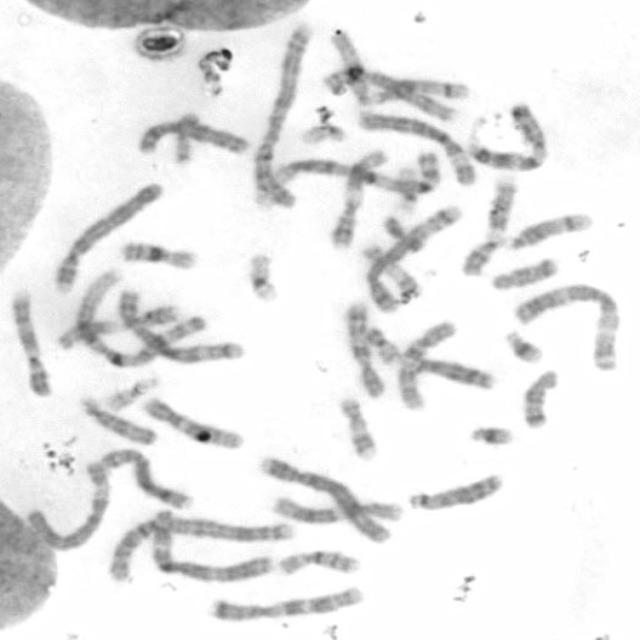A1: (69, 264, 211, 372), (249, 148, 446, 216)
A2: (100, 510, 296, 584), (246, 19, 314, 210)
A3: (509, 278, 622, 372), (148, 506, 277, 584)
B4: (48, 178, 164, 295), (254, 450, 394, 545)
B5: (360, 199, 464, 315), (114, 286, 247, 365)
C10: (392, 316, 458, 412), (341, 296, 386, 399)
C11: (51, 299, 184, 352), (325, 143, 388, 251)
C12: (138, 394, 246, 450), (265, 492, 405, 526)
C6: (352, 106, 478, 188), (23, 458, 113, 552)
C7: (202, 581, 365, 625), (462, 101, 551, 174)
C8: (319, 64, 459, 126), (86, 444, 196, 512)
C9: (458, 169, 520, 280), (6, 285, 53, 397)
D13: (396, 351, 498, 394), (402, 469, 503, 512)
D14: (354, 74, 471, 110), (502, 208, 595, 251)
D15: (324, 27, 378, 114), (75, 391, 159, 446)
E16: (115, 236, 200, 272), (274, 546, 361, 577)
E17: (358, 240, 422, 302), (334, 393, 380, 462)
E18: (487, 254, 560, 292), (518, 366, 560, 430)
F19: (242, 249, 282, 304), (390, 162, 422, 215)
F20: (170, 110, 203, 164), (361, 322, 401, 365)
G21: (498, 325, 546, 366), (465, 421, 514, 448)
G22: (101, 371, 161, 412), (296, 120, 346, 146)
X: (132, 115, 251, 158)
Y: (378, 213, 427, 254)
